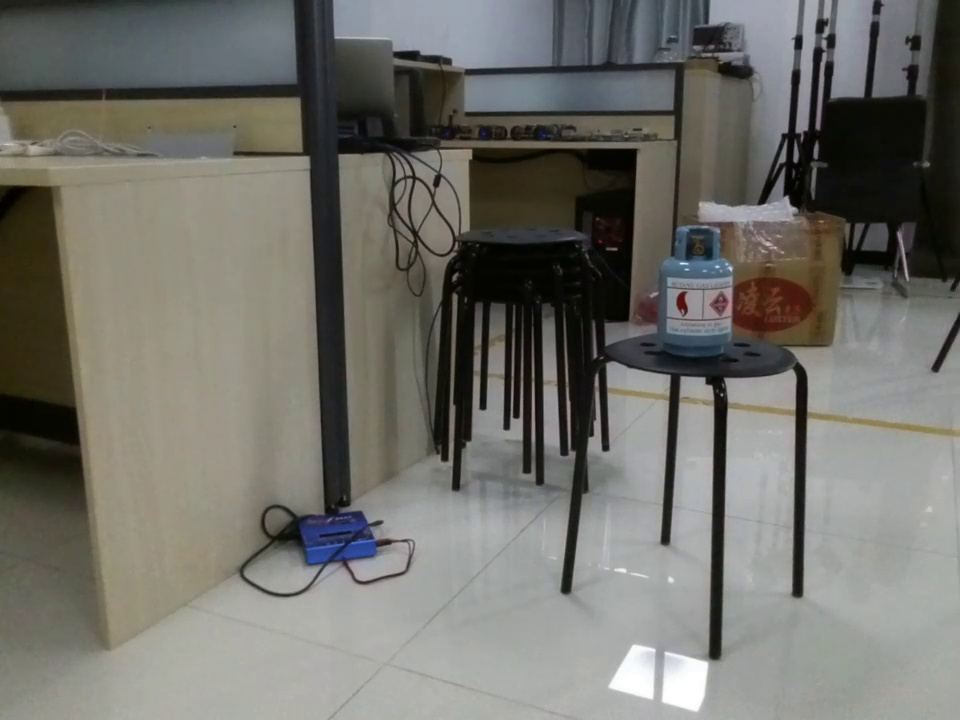gas tank: (654, 217, 752, 368)
